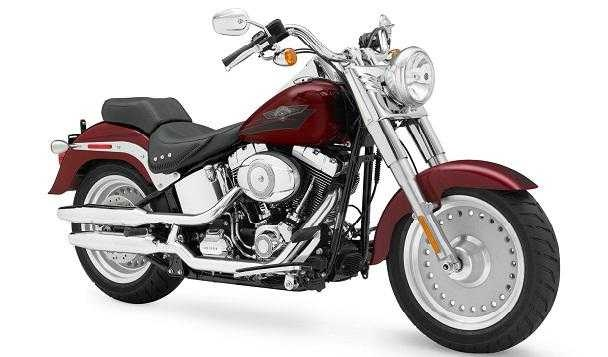motorbike: (47, 7, 561, 354)
